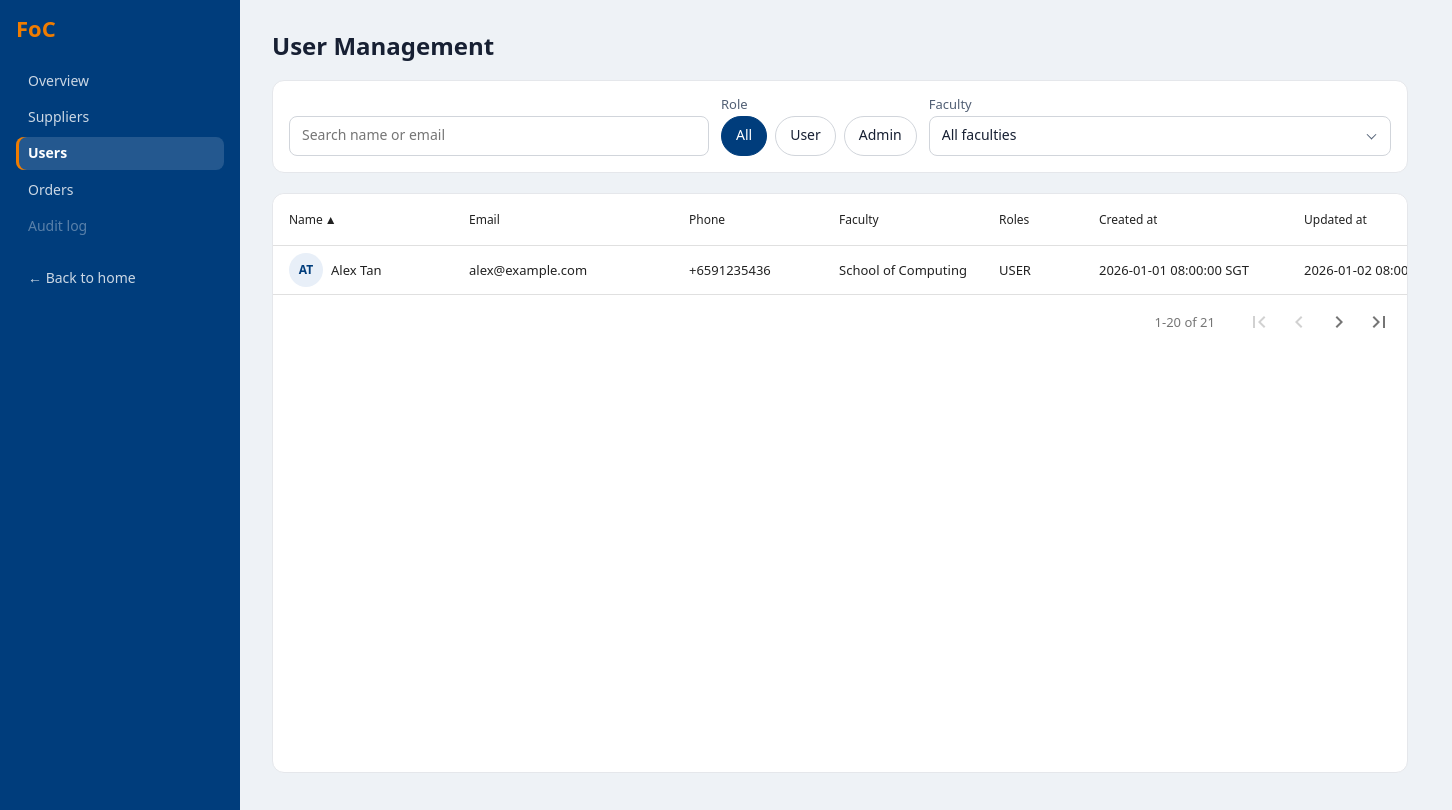
Scenario: returns to the last valid page when the result total shrinks
This screenshot has width=1452, height=810.
Expected: the text "Alex Tan" is shown, [331, 260, 382, 278]
Click the button named "Next Page" at (1339, 322), box [1319, 302, 1359, 342]
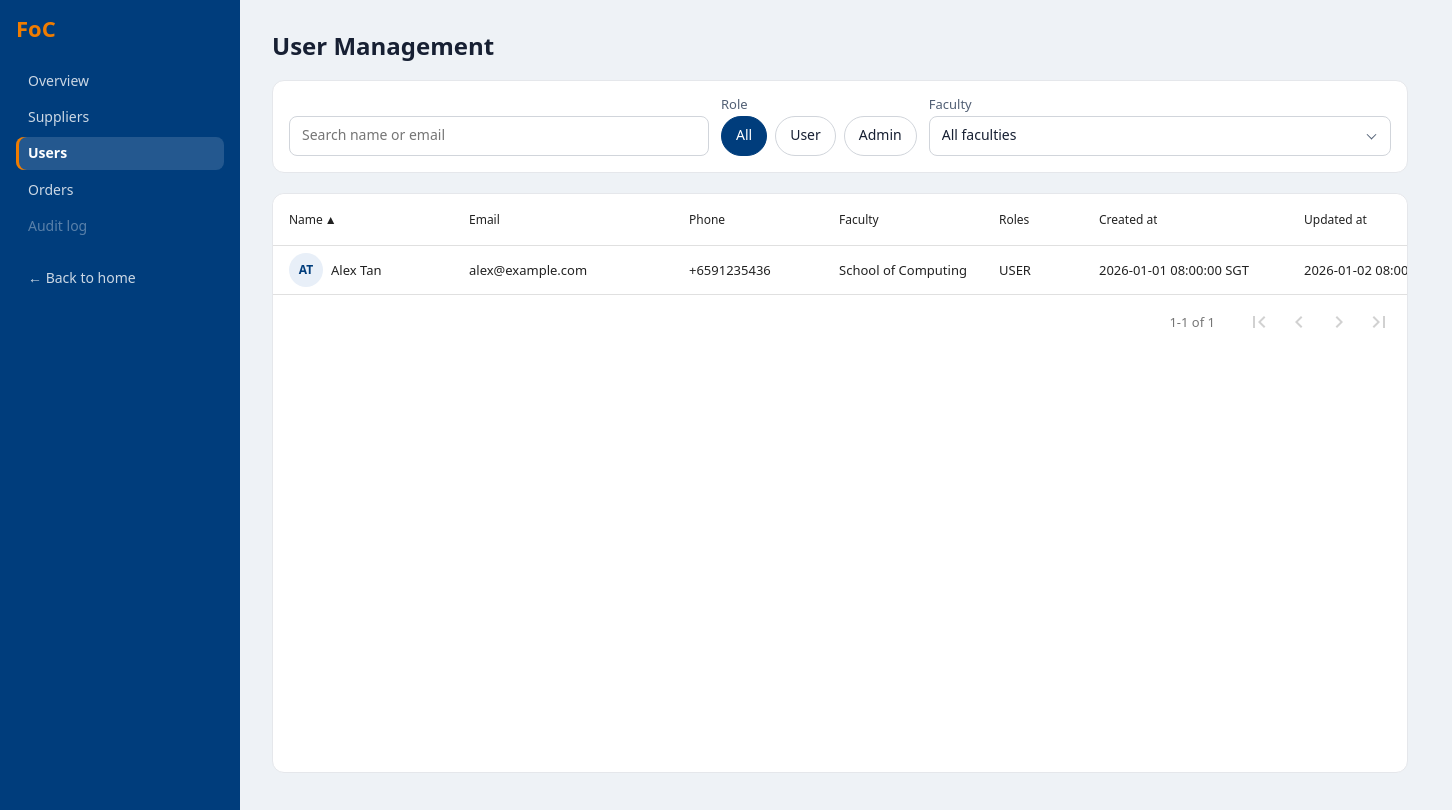
Now the button named "Next Page" is disabled, box [1319, 302, 1359, 342]
